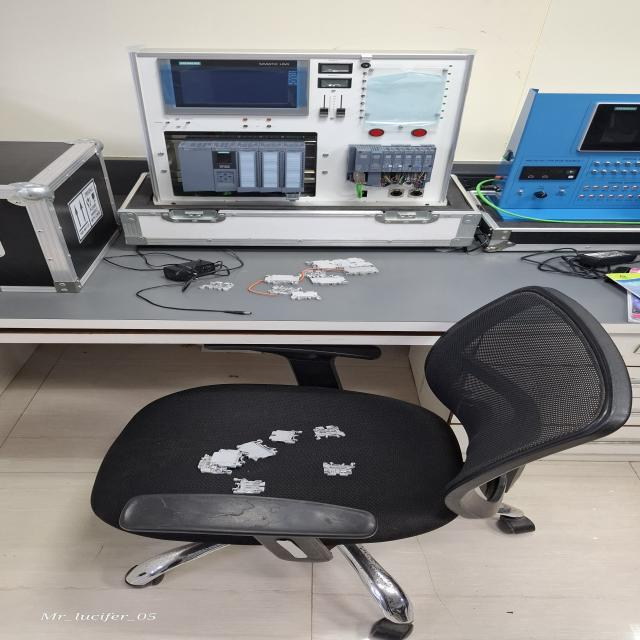Inverted: (266, 429, 306, 444)
Pass: (312, 424, 347, 440)
Reject: (226, 478, 266, 494), (320, 462, 357, 477)
